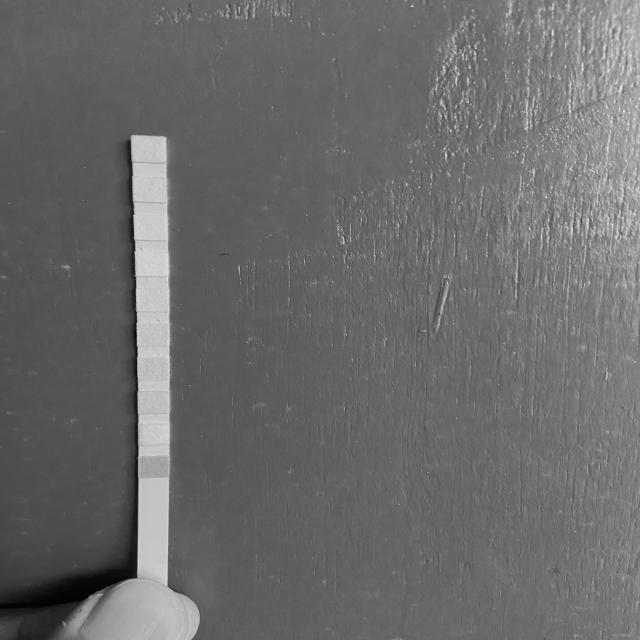Bilirubin: (139, 425, 169, 445)
Blood: (137, 324, 169, 346)
Glucose: (138, 458, 169, 478)
Ketone: (138, 392, 170, 413)
Leukocytes: (132, 137, 166, 161)
Nitrite: (132, 178, 167, 202)
Protein: (135, 253, 169, 276)
SpGravity: (138, 358, 169, 380)
Urobilinogen: (134, 216, 167, 240)
background: (0, 0, 640, 640)
pH: (136, 289, 170, 311)
strip: (131, 135, 169, 578)
